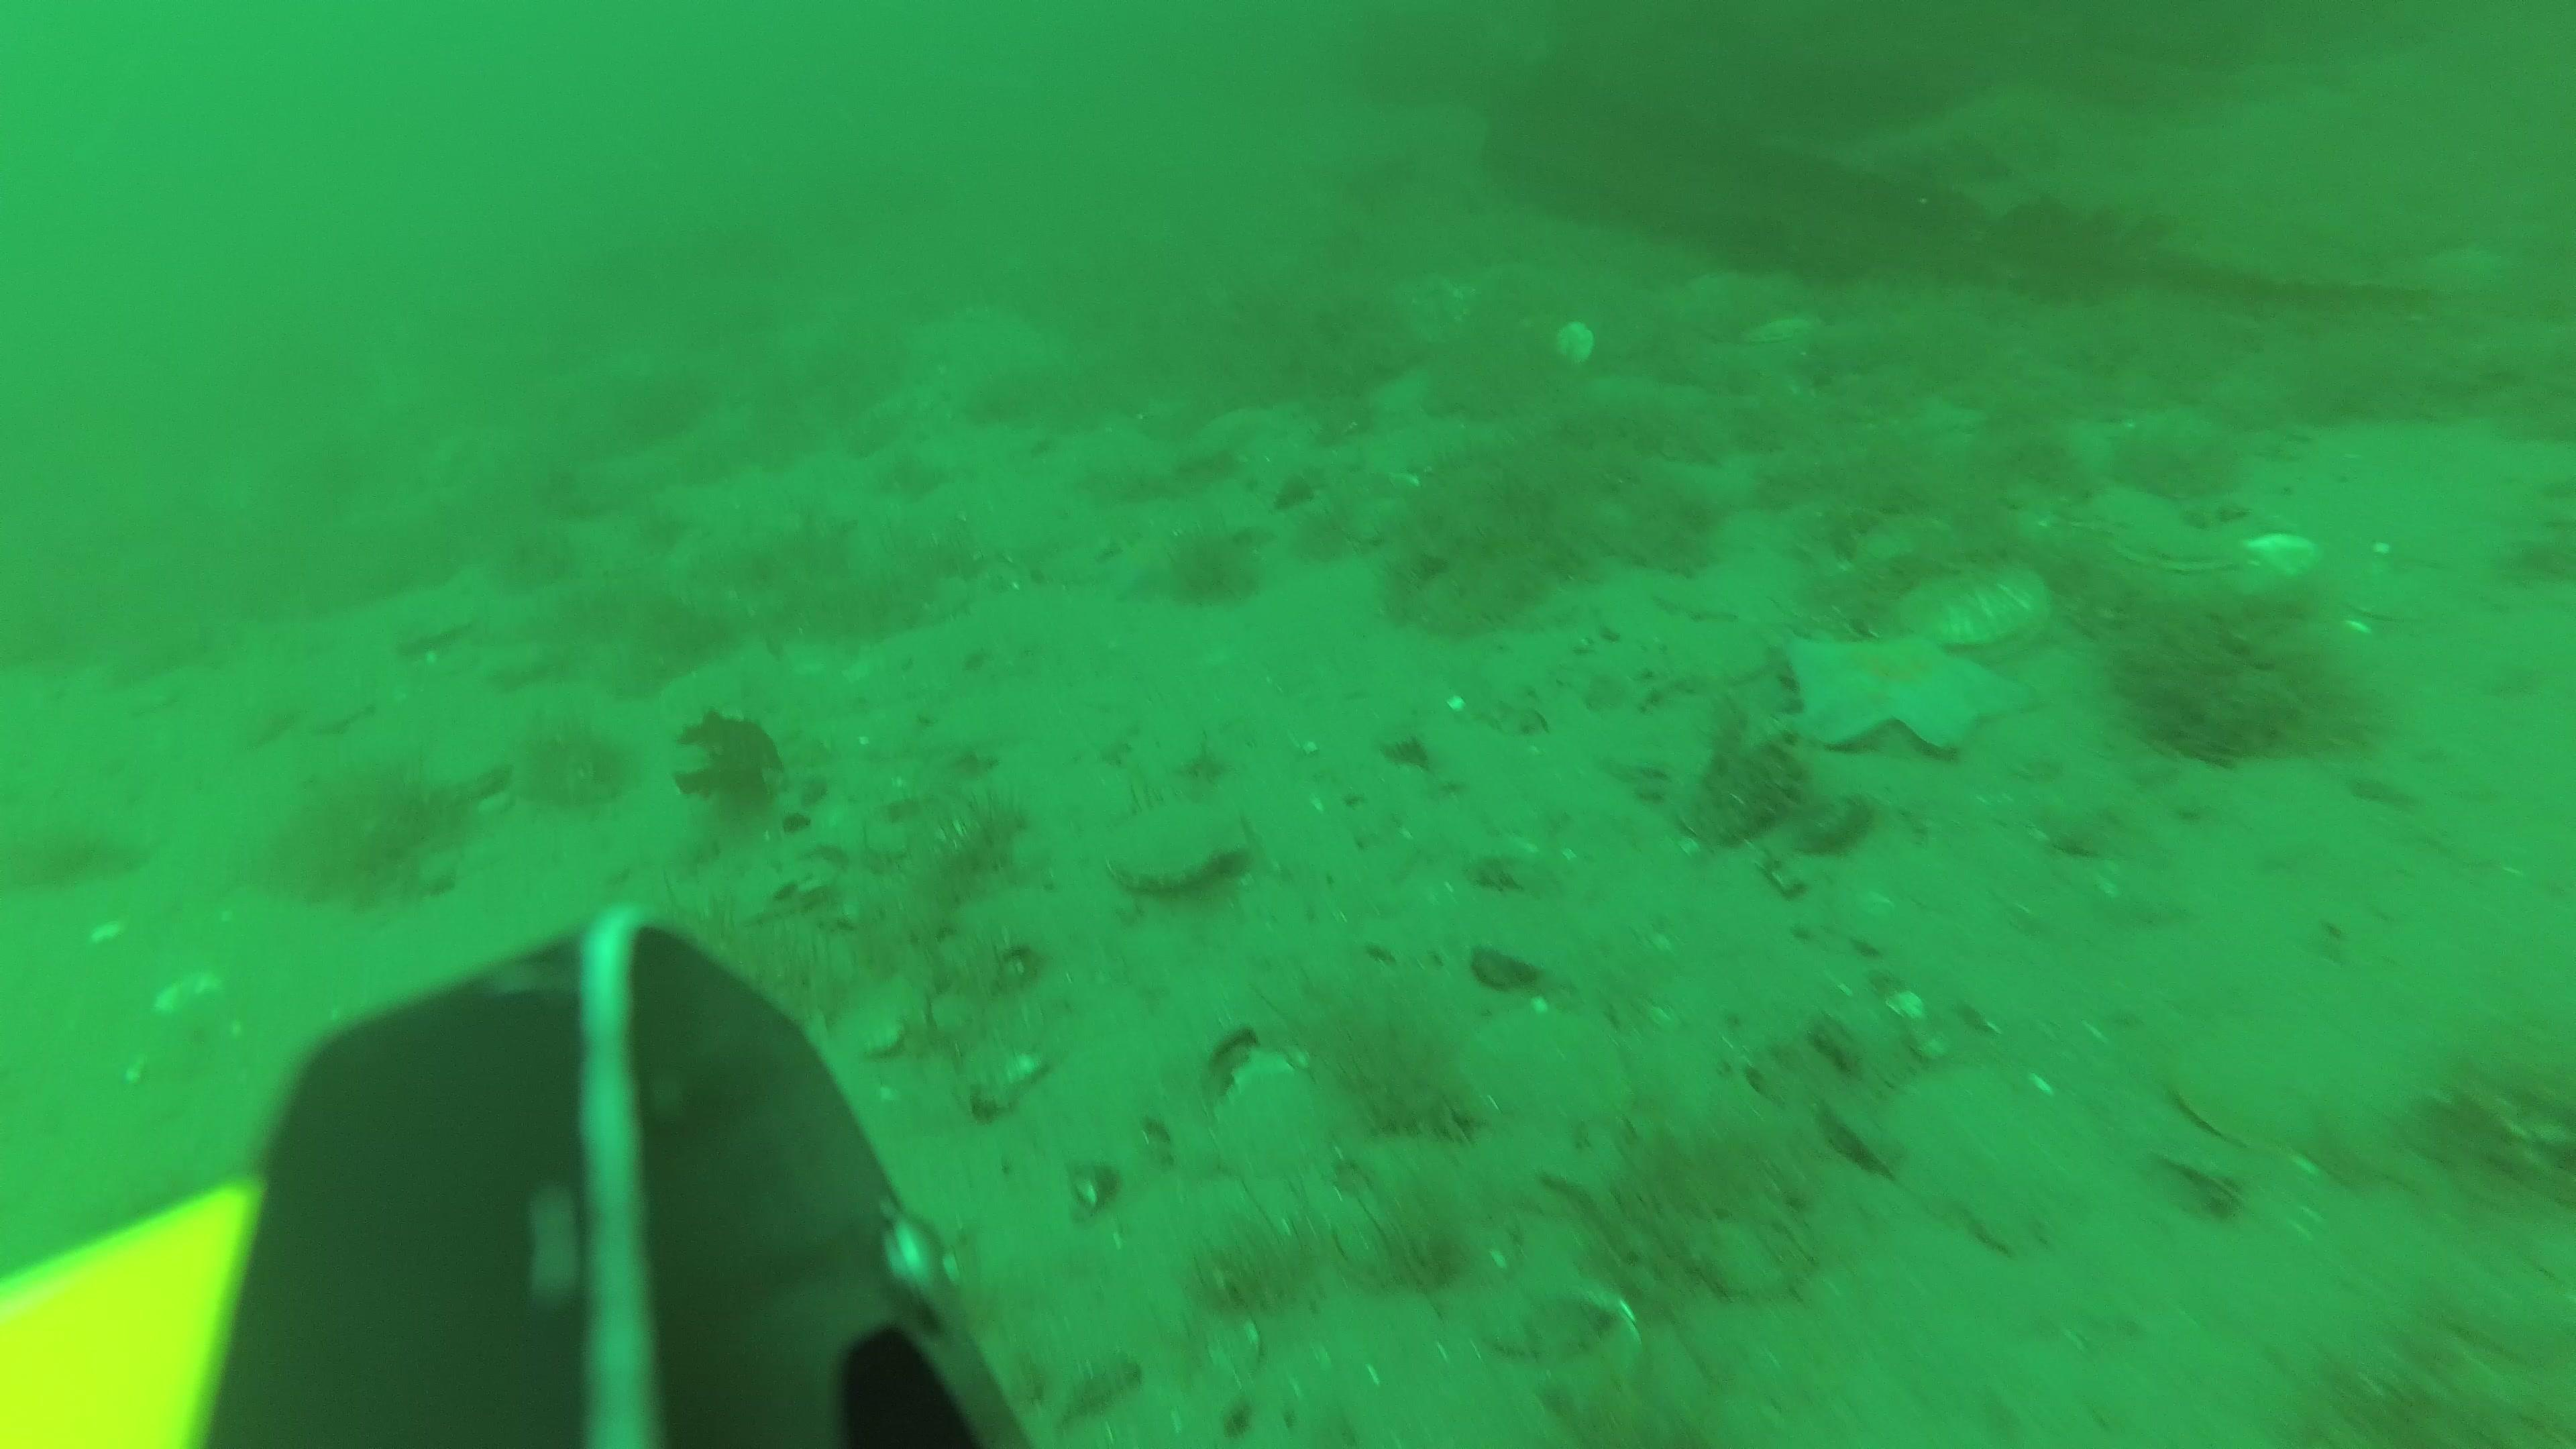scallop: (1891, 556, 2054, 658), (2081, 476, 2243, 570), (1109, 801, 1246, 885), (1739, 310, 1817, 345), (1559, 322, 1598, 368)
starfish: (1776, 616, 2038, 747), (1100, 525, 1200, 603)
